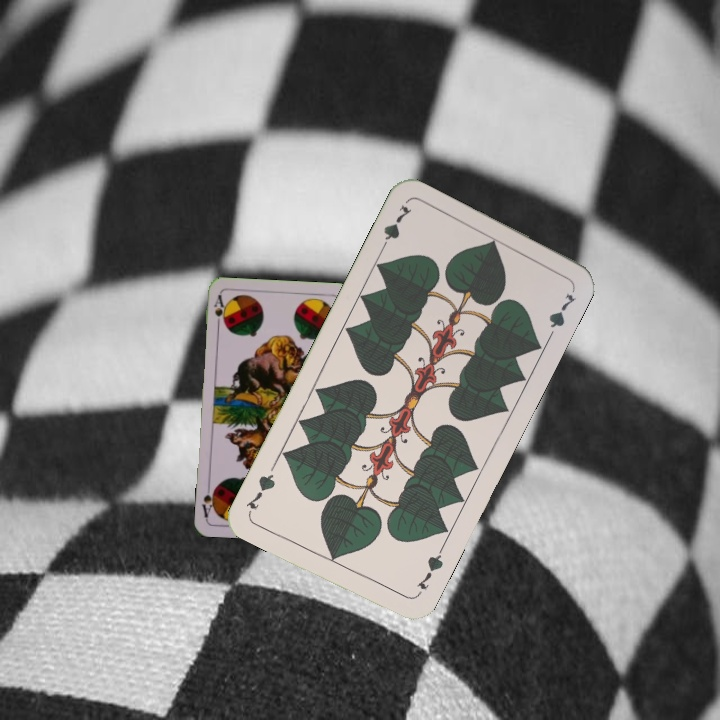G7: (375, 200, 415, 256), (412, 544, 446, 592)
SA: (210, 292, 228, 332)
